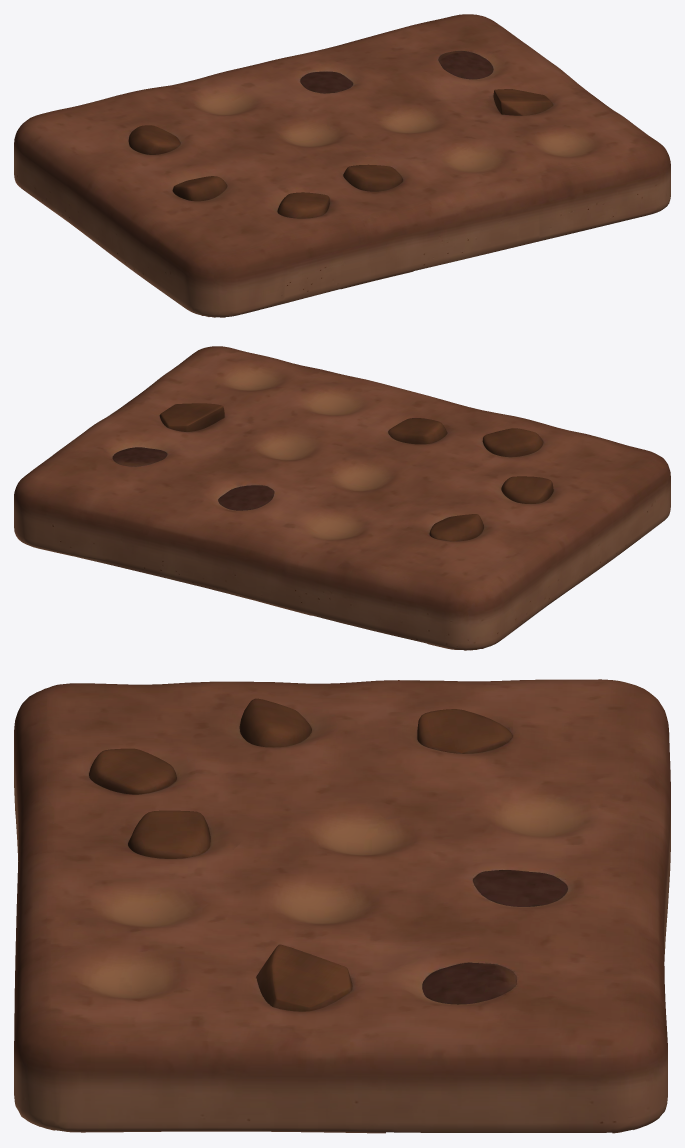
Rendered from focaccia--choco-cocoa.glb.
3 views of the same model, one above another, from view 1: azimuth 30°, elevation 25°; view 2: azimuth 150°, elevation 25°; view 3: azimuth 270°, elevation 25° (orthographic). The views are drawn at different scales.
Visible parts, largest first — view 1: focaccia_choco-cocoa; view 2: focaccia_choco-cocoa; view 3: focaccia_choco-cocoa.
Part boxes in pixels (x1,y1,x2,y2): focaccia_choco-cocoa: (14,14,670,317); focaccia_choco-cocoa: (14,346,670,650); focaccia_choco-cocoa: (14,679,670,1133).
Bounding box in the file's own units: 1.01 × 0.1428 × 0.7441.
1 material, 1 textured.
